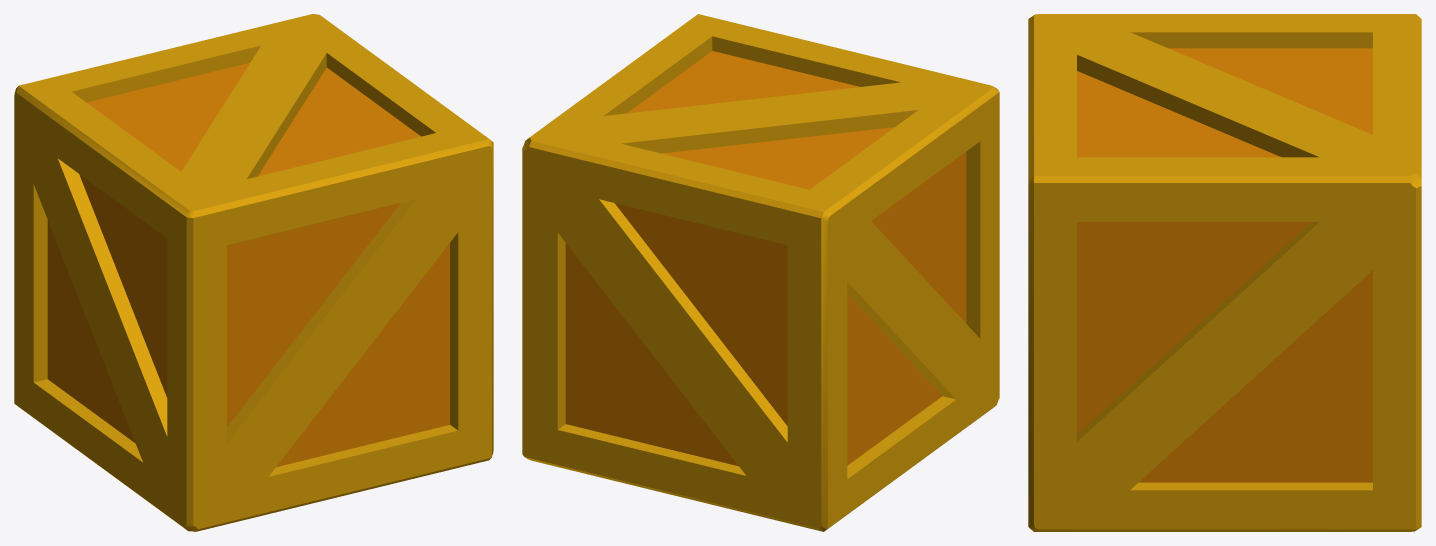
3 views of the same model, side by side, from view 1: azimuth 30°, elevation 25°; view 2: azimuth 150°, elevation 25°; view 3: azimuth 270°, elevation 25° (orthographic). The views are drawn at different scales.
Visible parts, largest first — view 1: box; view 2: box; view 3: box.
Boxes of the visible parts, left/top/right/bottom form: box: left=14, top=14, right=493, bottom=531; box: left=522, top=14, right=999, bottom=531; box: left=1028, top=14, right=1421, bottom=531.
Bounding box in the file's own units: 60 × 60 × 60.
